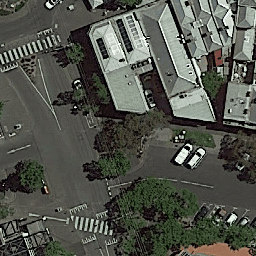car: (185, 146, 207, 171), (173, 142, 193, 166), (193, 204, 209, 223), (213, 206, 227, 225), (72, 77, 85, 97), (225, 211, 239, 227), (44, 1, 63, 12), (239, 216, 250, 228)
